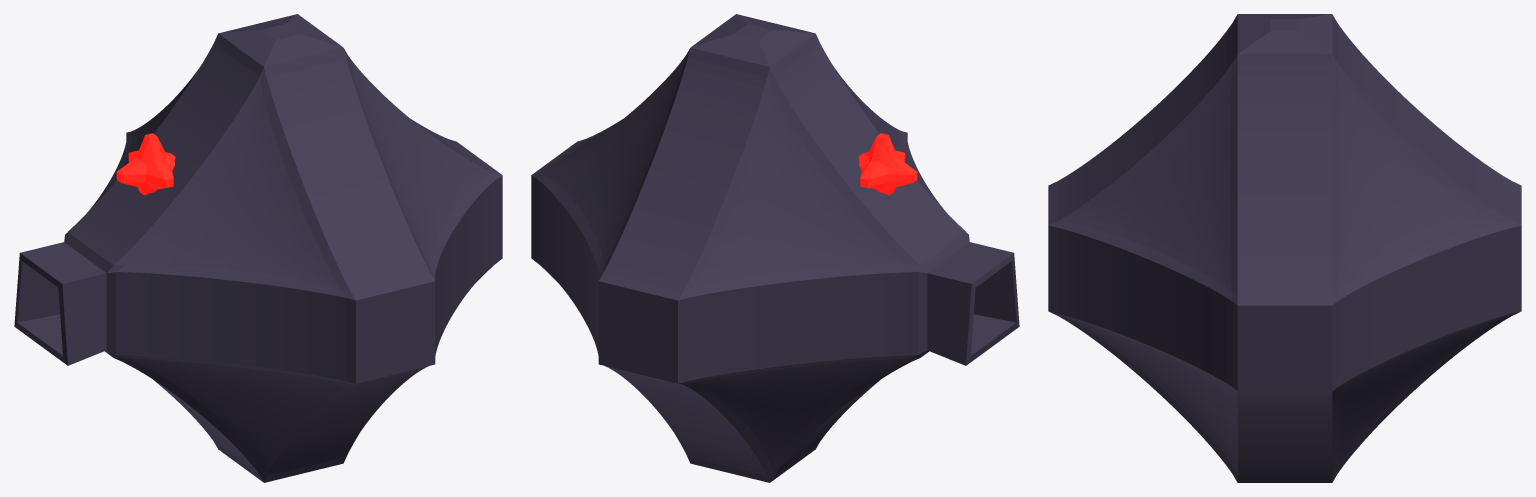
Rendered from Boss.fbx.
3 renders of one model, left to right at view 1: azimuth 30°, elevation 25°; view 2: azimuth 150°, elevation 25°; view 3: azimuth 270°, elevation 25°, orthographic. The views are drawn at different scales.
Parts seen in each view (by area): view 1: Head; view 2: Head; view 3: Head.
Boxes of the visible parts, bbox=[...] form: Head: bbox=[14, 14, 502, 482]; Head: bbox=[531, 14, 1019, 482]; Head: bbox=[1048, 14, 1521, 482].
Bounding box in the file's own units: 221 × 204 × 200.
